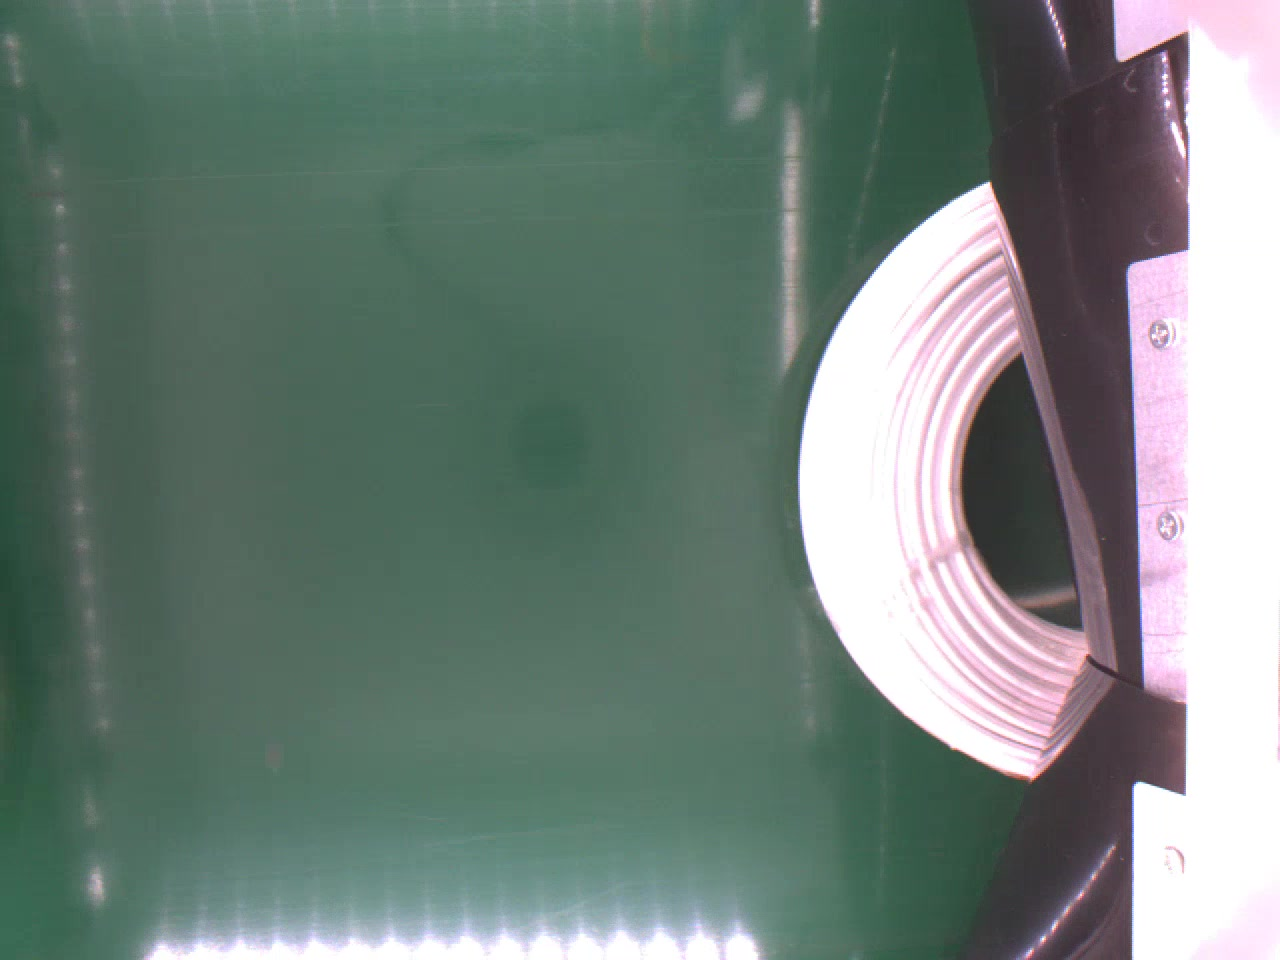white: (798, 176, 1085, 786)
